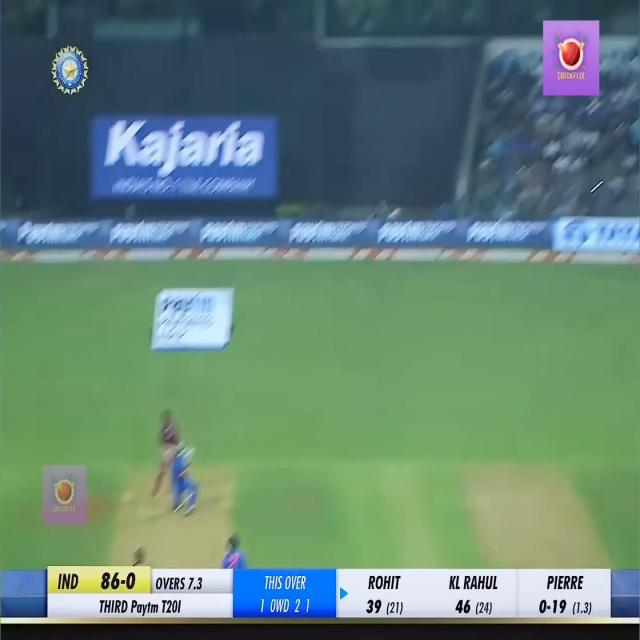partially_visible: (158, 286, 219, 318)
